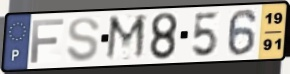5: (190, 10, 222, 58)
6: (227, 8, 258, 58)
8: (149, 11, 179, 62)
F: (29, 17, 66, 64)
M: (103, 13, 149, 63)
S: (65, 16, 102, 64)
